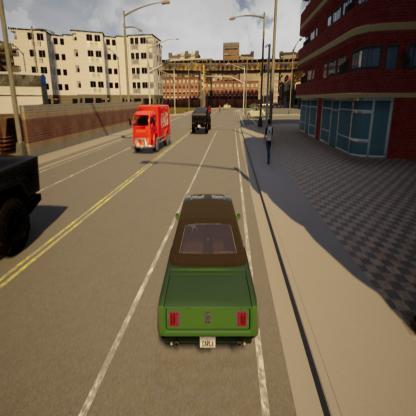Cars: (148, 180, 267, 359), (0, 143, 53, 275), (132, 101, 172, 154), (260, 120, 276, 168), (190, 106, 213, 135), (245, 107, 271, 120), (224, 102, 232, 112)
